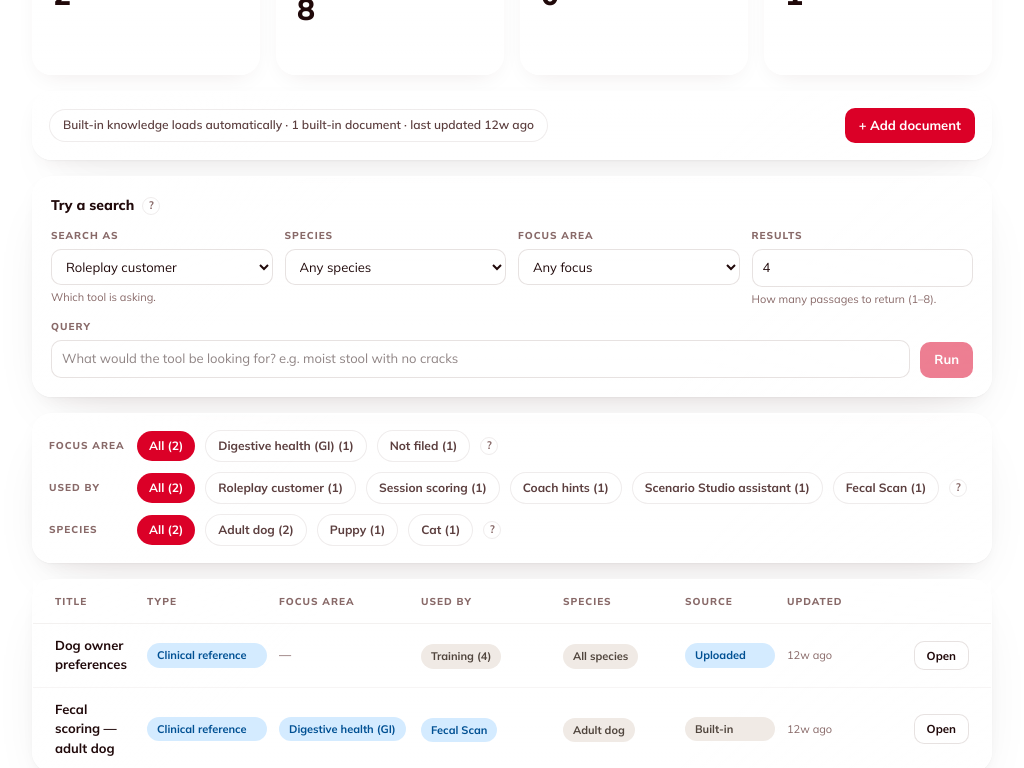
Scenario: the document editor › offers nothing to save until something actually changed
The width and height of the screenshot is (1024, 768).
(page scrolled)
Click the text "Fecal scoring — adult dog" at [86, 728], box x1=55 y1=701 x2=117 y2=756
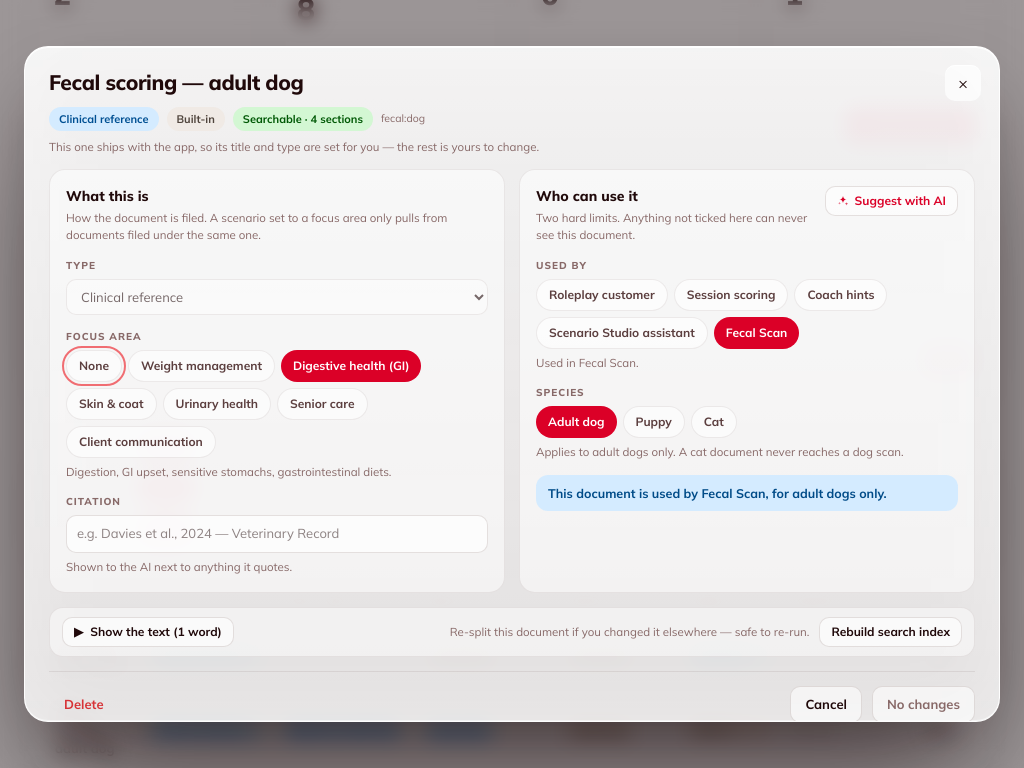
Check: the button "No changes" is disabled, box x1=872 y1=686 x2=975 y2=721
Click the button "Cat" at [714, 422], box x1=691 y1=406 x2=737 y2=438
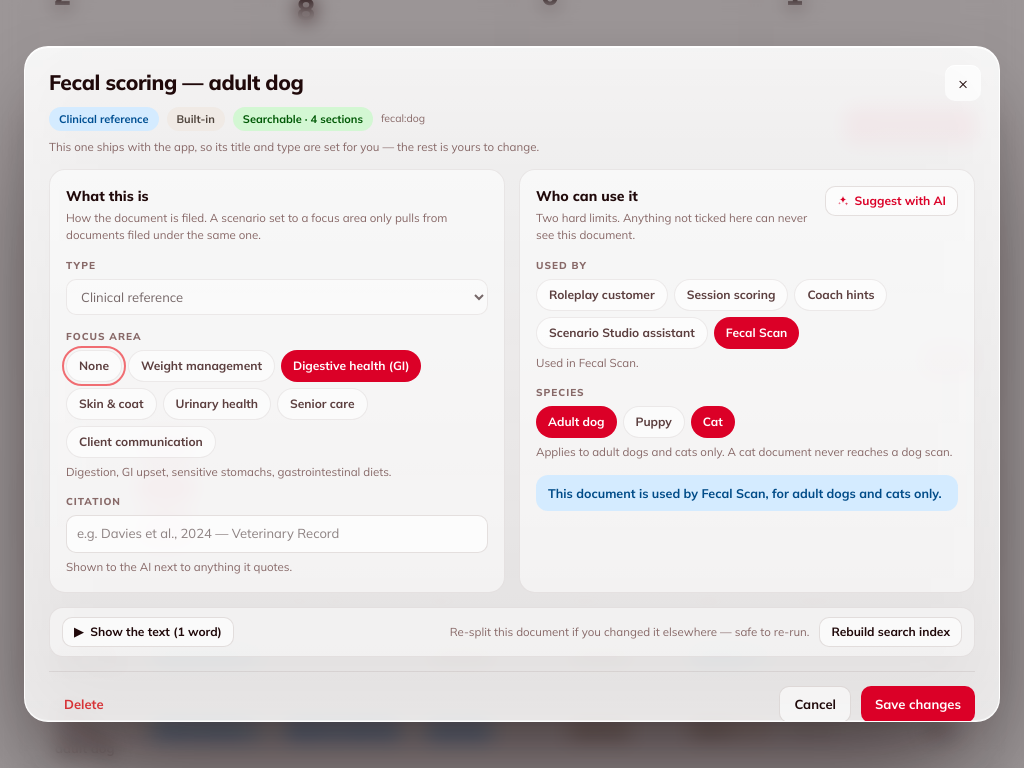
Check: the button "Save changes" is enabled, box x1=861 y1=686 x2=975 y2=721
